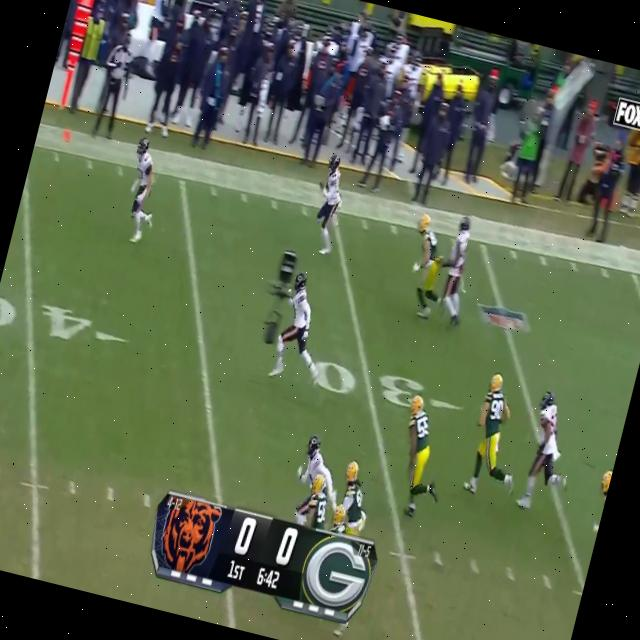Player: (456, 369, 526, 503), (512, 386, 578, 516), (264, 270, 332, 388), (384, 396, 446, 520), (426, 212, 484, 330), (112, 134, 170, 248), (392, 212, 450, 326), (302, 150, 356, 256), (292, 472, 338, 534), (336, 458, 376, 513)
